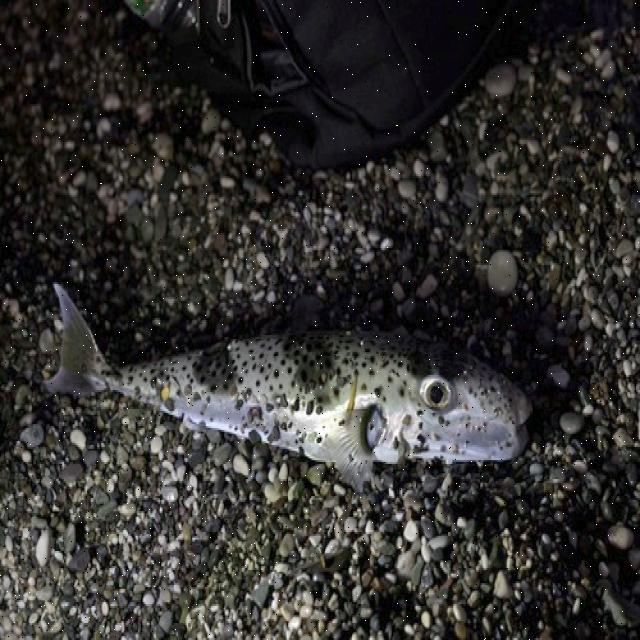Balik: (47, 286, 531, 490)
